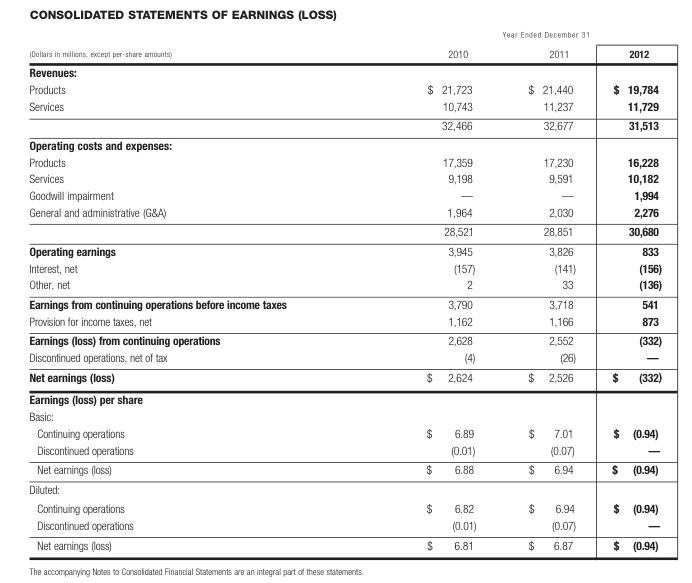table: (28, 29, 661, 551)
table column: (28, 29, 355, 551), (355, 29, 501, 551), (501, 29, 593, 551), (593, 29, 661, 551)
table column header: (28, 29, 661, 62)
table projected row header: (28, 388, 661, 407), (28, 478, 661, 497), (28, 62, 661, 80), (28, 134, 661, 152), (28, 407, 661, 424)
table row: (28, 366, 661, 388), (28, 42, 661, 62), (28, 115, 661, 134), (28, 221, 661, 240), (28, 329, 661, 348), (28, 388, 661, 407), (28, 459, 661, 478), (28, 478, 661, 497), (28, 515, 661, 534), (28, 62, 661, 80), (28, 97, 661, 115), (28, 134, 661, 152), (28, 203, 661, 221), (28, 240, 661, 258), (28, 275, 661, 293), (28, 293, 661, 311), (28, 311, 661, 329), (28, 348, 661, 366), (28, 441, 661, 459), (28, 497, 661, 515), (28, 80, 661, 97), (28, 152, 661, 169), (28, 169, 661, 186), (28, 186, 661, 203), (28, 258, 661, 275), (28, 407, 661, 424), (28, 424, 661, 441), (28, 534, 661, 551), (28, 29, 661, 42)
table spanning cell: (28, 29, 355, 62), (355, 29, 661, 42)
